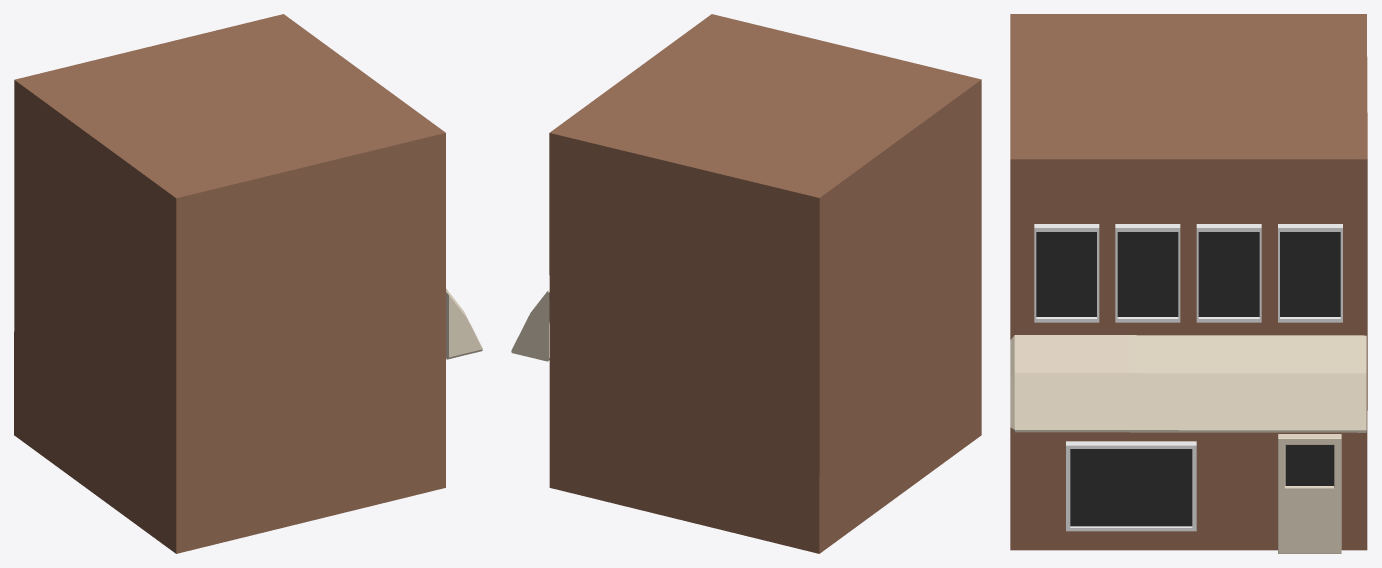
3 renders of one model, left to right at view 1: azimuth 30°, elevation 25°; view 2: azimuth 150°, elevation 25°; view 3: azimuth 270°, elevation 25°, orthographic. The views are drawn at different scales.
Parts seen in each view (by area): view 1: BusinessBuildings.007; view 2: BusinessBuildings.007; view 3: BusinessBuildings.007.
Boxes of the visible parts, left/top/right/bottom form: BusinessBuildings.007: left=14, top=14, right=482, bottom=553; BusinessBuildings.007: left=511, top=14, right=981, bottom=553; BusinessBuildings.007: left=1010, top=14, right=1367, bottom=553.
Bounding box in the file's own units: 90.92 × 100 × 82.82.
